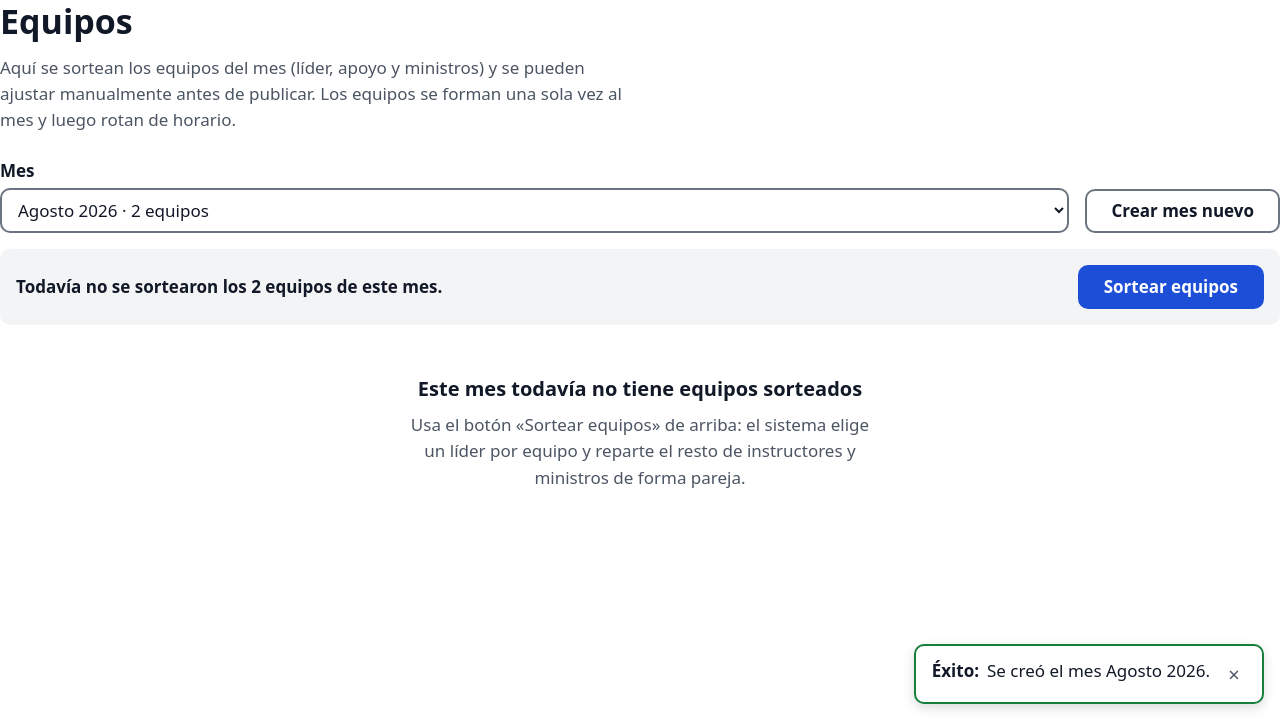
Test: TeamGenerator › muestra el 409 MES_YA_EXISTE de forma clara con acceso directo al mes existente
The image size is (1280, 720).
expect the button "Sortear equipos" is shown: met, box [1078,265,1264,309]
Click the button "Crear mes nuevo".
click(1183, 211)  # box [1086,189,1279,233]
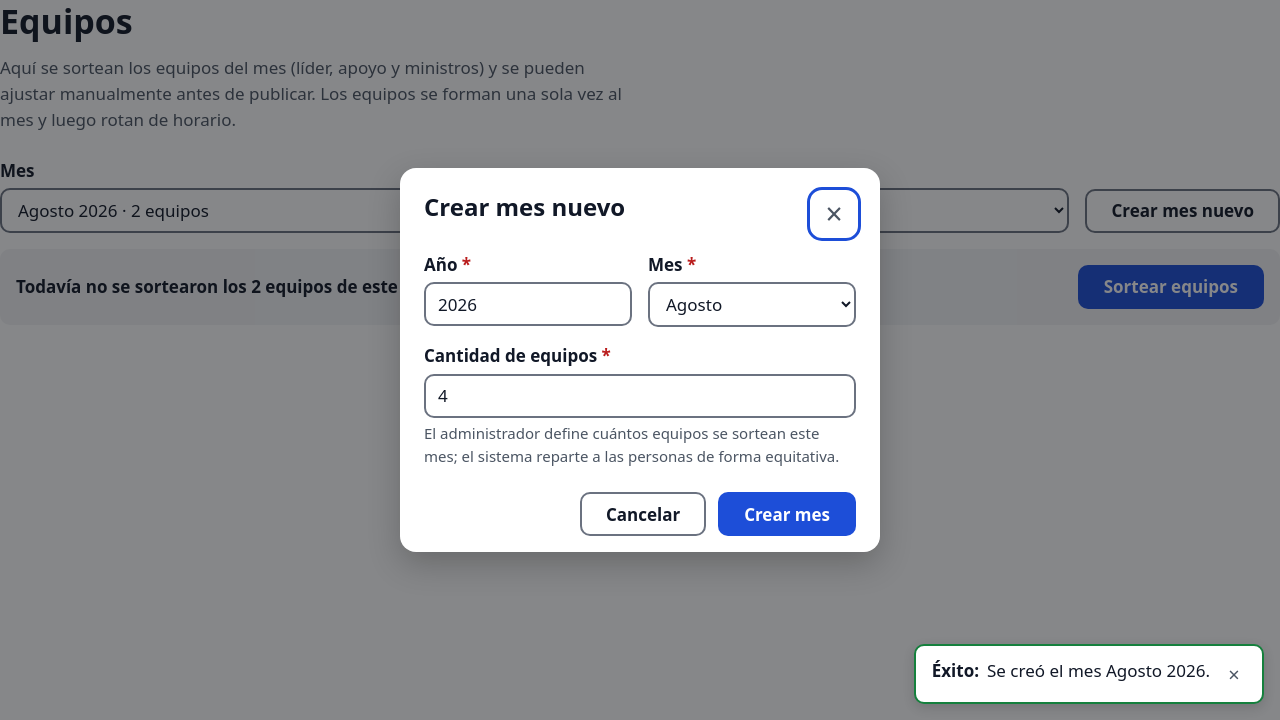
Click the button "Crear mes".
click(787, 514)  # box [718,492,856,536]
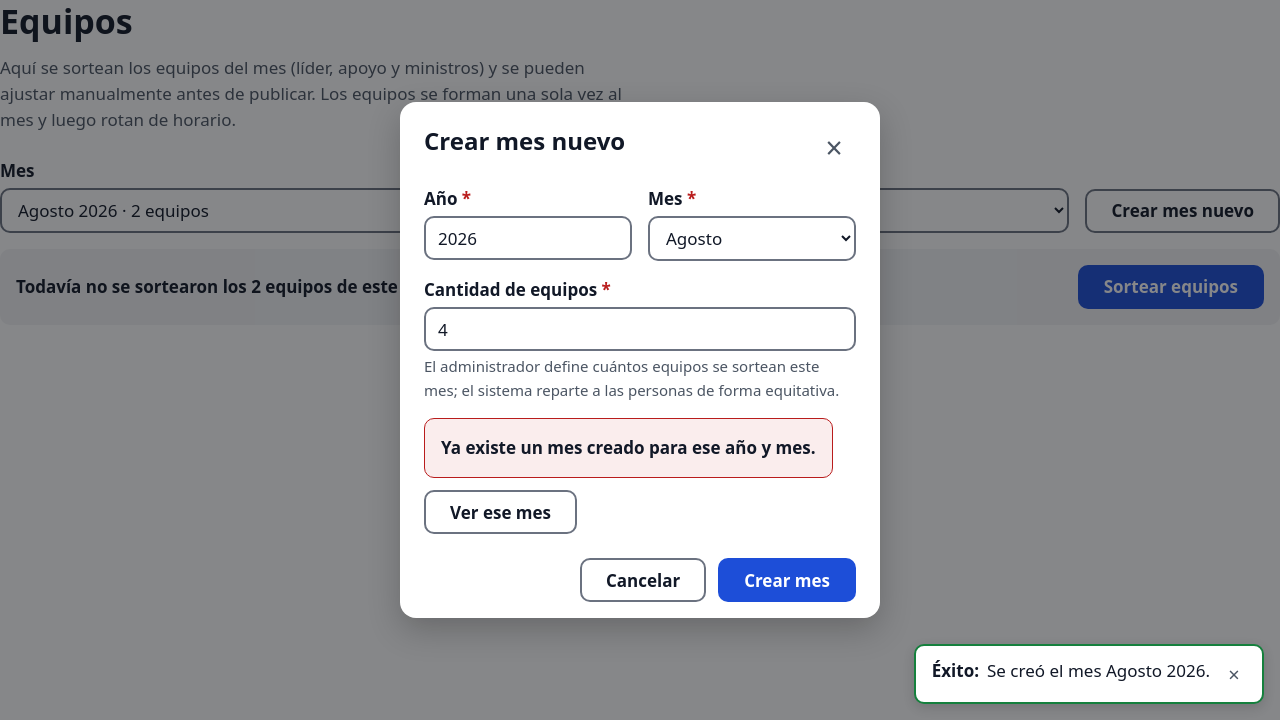
expect the text "Ya existe un mes creado para ese año y mes." is shown: met, box [441,435,816,461]
expect the button "Ver ese mes" is shown: met, box [424,490,577,534]
